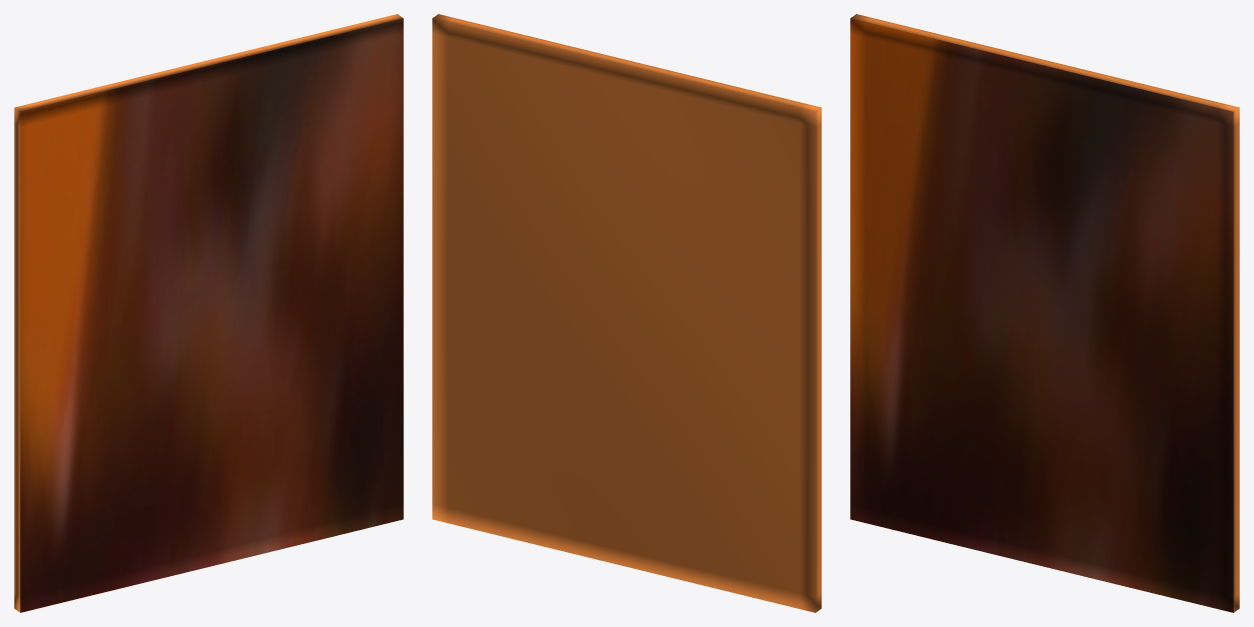
Rendered from pantry_contents__tea_sachet.glb.
3 renders of one model, left to right at view 1: azimuth 30°, elevation 25°; view 2: azimuth 150°, elevation 25°; view 3: azimuth 330°, elevation 25°, orthographic.
Parts seen in each view (by area): view 1: tea_sachet__body; view 2: tea_sachet__body; view 3: tea_sachet__body.
Boxes of the visible parts, bbox=[...] form: tea_sachet__body: bbox=[14, 14, 403, 612]; tea_sachet__body: bbox=[432, 14, 821, 612]; tea_sachet__body: bbox=[850, 14, 1239, 612].
Bounding box in the file's own units: 0.06 × 0.075 × 0.004.
Materials: 2 (1 with a texture image).
